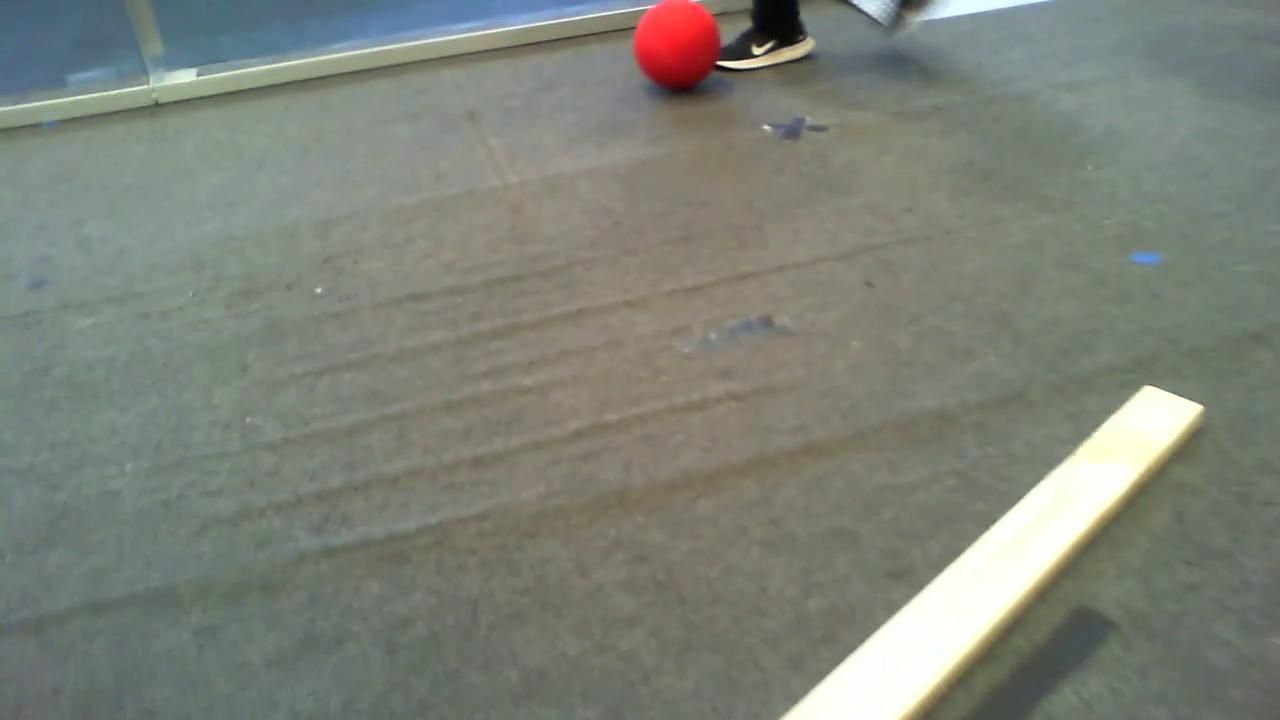Red_Ball: (626, 0, 729, 96)
